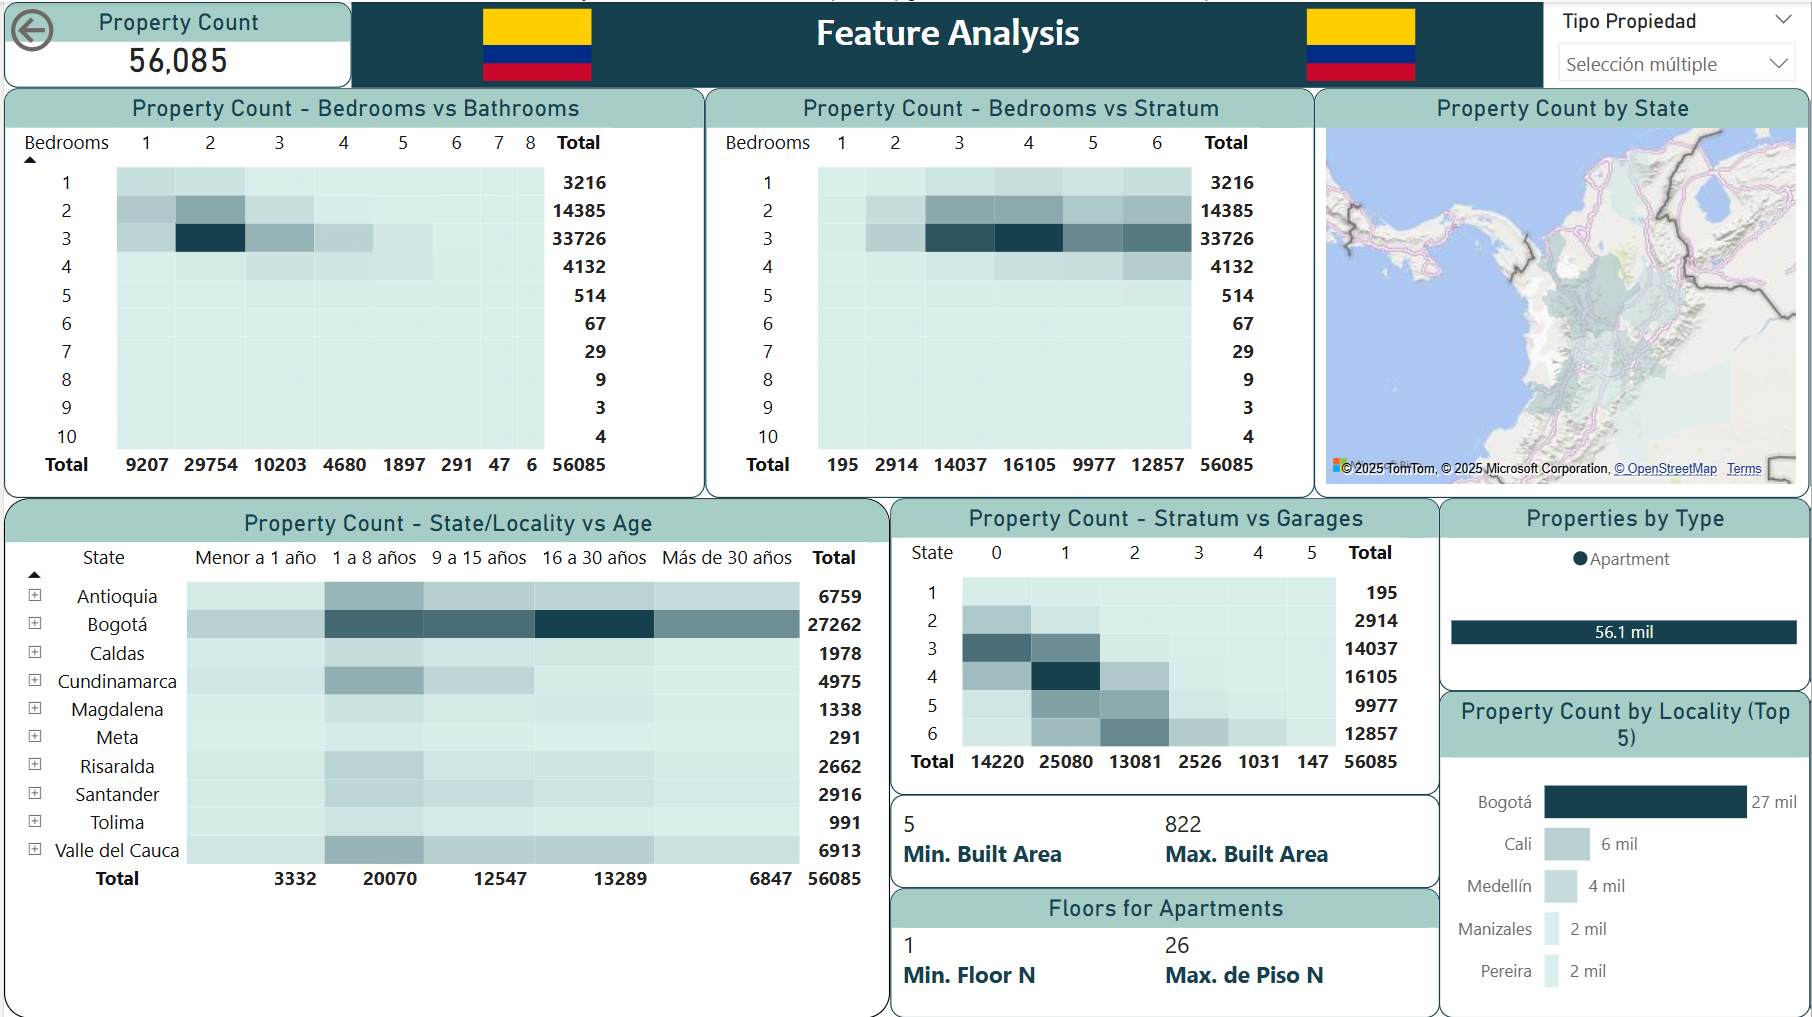

What the dashboard file says about the page in this screenshot:
{"tool":"powerbi","page":{"name":"Análisis de Características","canvas":[1280,720],"ordinal":0},"visuals":[{"type":"pivotTable","title":"Cantidad de propiedades - Habitaciones vs Baños","fields":{"Columns":["Props.Banos"],"Values":["CountNonNull(Props.Tipo Propiedad)"],"Rows":["Props.Habitaciones"]},"box":[0,61.1,497,290.6],"z":0},{"type":"pivotTable","title":"Cantidad de propiedades - Estrato vs Garages","fields":{"Columns":["Props.Garages"],"Values":["CountNonNull(Props.Tipo Propiedad)"],"Rows":["Props.Estrato"]},"box":[628.2,351.5,389.2,210.2],"z":1000},{"type":"slicer","fields":{"Values":["Props.Tipo Propiedad"]},"box":[1091.5,0,188.7,61.1],"z":2000},{"type":"pivotTable","title":"Cantidad de propiedades - Estado/Localidad vs Antiguedad","fields":{"Values":["CountNonNull(Props.Tipo Propiedad)"],"Rows":["Props.Estado","Props.Localidad"],"Columns":["Antiguedad Exp.Antiguedad"]},"box":[0,351.5,628.2,368.7],"z":3000},{"type":"card","title":"Cantidad de Propiedades","fields":{"Values":["CountNonNull(Props.Tipo Propiedad)"]},"box":[0,0,246.3,61.1],"z":4000},{"type":"textbox","box":[246.3,0,845.2,61.1],"z":5000},{"type":"pivotTable","title":"Cantidad de propiedades - Habitaciones vs Estrato","fields":{"Values":["CountNonNull(Props.Tipo Propiedad)"],"Rows":["Props.Habitaciones"],"Columns":["Props.Estrato"]},"box":[496.8,60.8,431.9,290.7],"z":6000},{"type":"image","box":[892.6,0,138,60.8],"z":7000},{"type":"image","box":[308.8,0,137.1,60.8],"z":8000},{"type":"filledMap","title":"Cantidad de propiedades por Estado","fields":{"Category":["Props.Estado"]},"box":[928.7,60.8,351.5,290.7],"z":9000},{"type":"actionButton","box":[0,0,100,40],"z":10000},{"type":"hundredPercentStackedBarChart","title":"Propiedades por Tipo","fields":{"Y":["CountNonNull(Props.Tipo Propiedad)"],"Series":["Props.Tipo Propiedad"]},"box":[1017.1,351.7,263.1,136.4],"z":11000},{"type":"multiRowCard","title":"Propiedades por Tipo","fields":{"Values":["Min(Props.Area Construida)","Max(Props.Area Construida)1"]},"box":[628.2,561.7,389.2,66.5],"z":12000},{"type":"multiRowCard","title":"Pisos para Departamentos","fields":{"Values":["Min(Props.Piso N)","Max(Props.Piso N)1"]},"box":[628.2,628.2,389.2,92],"z":13000},{"type":"barChart","title":"Cant. Propiedades por Localidad (Top 5)","fields":{"Y":["CountNonNull(Props.Tipo Propiedad)"],"Category":["Props.Localidad"]},"box":[1017.1,488.2,263.1,232.1],"z":14000}]}

Visuals, with their boxes in screenshot pixels (x1, y1, x2, y2), scaled from the page's 1280x720 canvas onto the 1812x1017 screenshot:
"Cantidad de propiedades - Habitaciones vs Baños" pivotTable: crop(0, 86, 704, 497)
"Cantidad de propiedades - Estrato vs Garages" pivotTable: crop(889, 496, 1440, 793)
slicer - Props.Tipo Propiedad: crop(1545, 0, 1811, 86)
"Cantidad de propiedades - Estado/Localidad vs Antiguedad" pivotTable: crop(0, 496, 889, 1016)
"Cantidad de Propiedades" card: crop(0, 0, 349, 86)
textbox: crop(349, 0, 1545, 86)
"Cantidad de propiedades - Habitaciones vs Estrato" pivotTable: crop(703, 86, 1315, 496)
image: crop(1264, 0, 1459, 86)
image: crop(437, 0, 631, 86)
"Cantidad de propiedades por Estado" filledMap: crop(1315, 86, 1811, 496)
actionButton: crop(0, 0, 142, 56)
"Propiedades por Tipo" hundredPercentStackedBarChart: crop(1440, 497, 1811, 689)
"Propiedades por Tipo" multiRowCard: crop(889, 793, 1440, 887)
"Pisos para Departamentos" multiRowCard: crop(889, 887, 1440, 1016)
"Cant. Propiedades por Localidad (Top 5)" barChart: crop(1440, 690, 1811, 1016)
